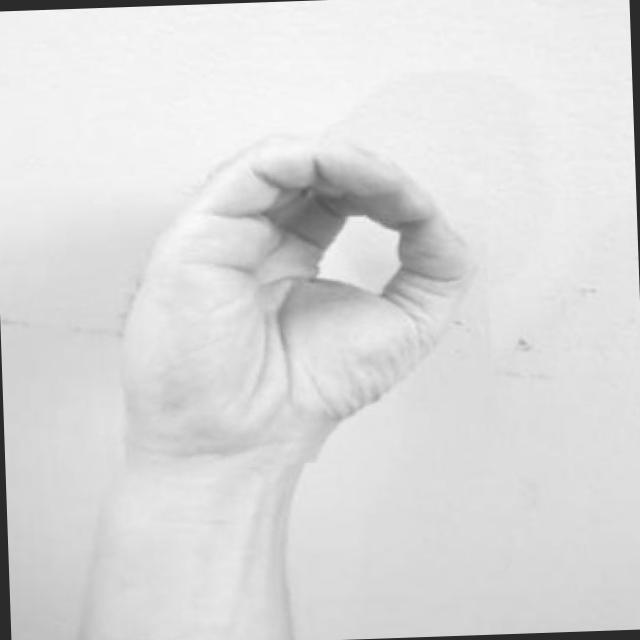O: (82, 118, 494, 476)
